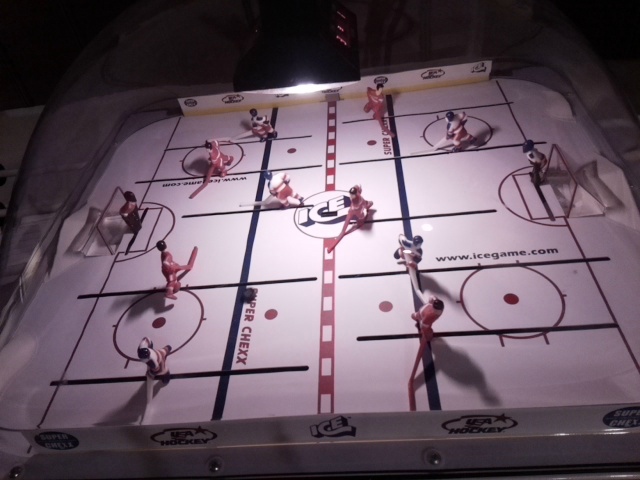puck: (240, 287, 256, 301)
